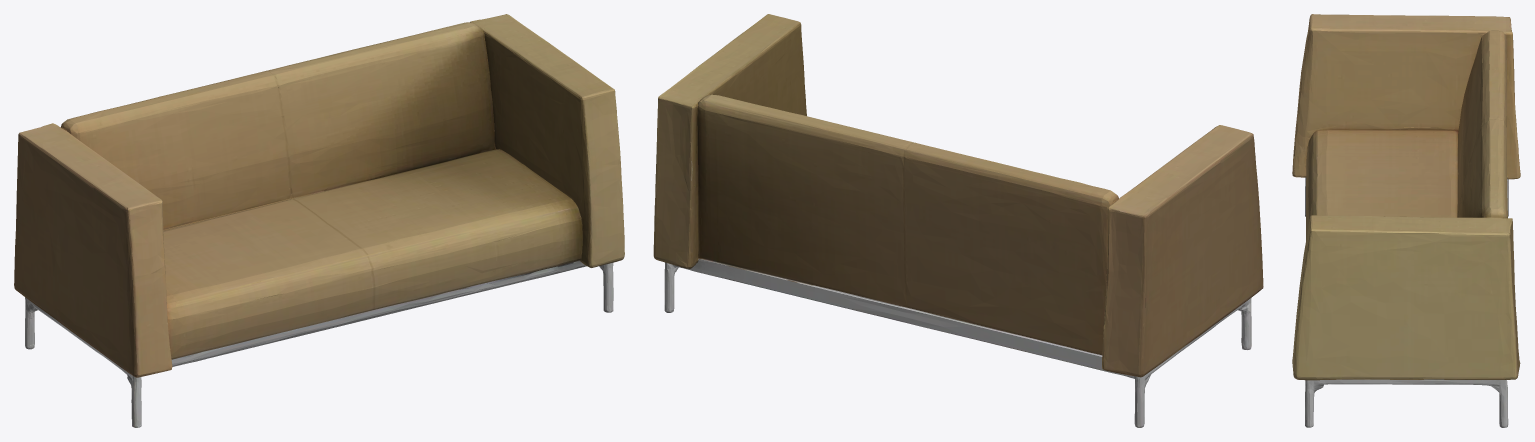
The model's file is def06565-677d-4188-8ca3-434e2e7408b4.glb.
The picture shows the model from 3 angles, left to right: view 1: azimuth 30°, elevation 25°; view 2: azimuth 150°, elevation 25°; view 3: azimuth 270°, elevation 25°; orthographic projection. The views are drawn at different scales.
Parts seen in each view (by area): view 1: world; view 2: world; view 3: world.
Part boxes in pixels (x1=…): world: x1=14, y1=14, x2=624, y2=427; world: x1=653, y1=14, x2=1263, y2=427; world: x1=1292, y1=14, x2=1520, y2=427.
Size of the model in its own units: 0.9917 by 0.4273 by 0.437.
Materials: 1 (1 with a texture image).
